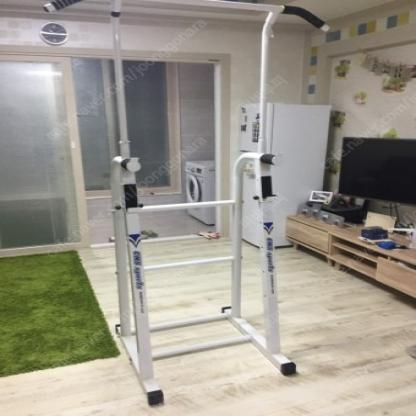chinning dipping: (42, 0, 332, 407)
